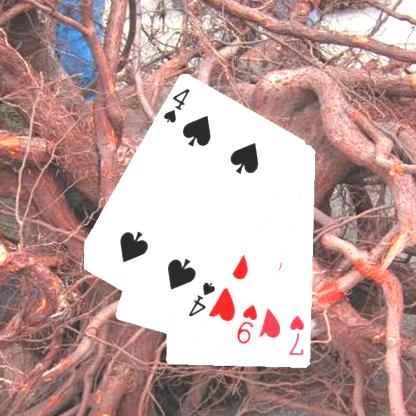4S: (160, 86, 192, 125), (186, 279, 217, 319)
7H: (286, 312, 306, 358)
9H: (234, 302, 260, 346)
